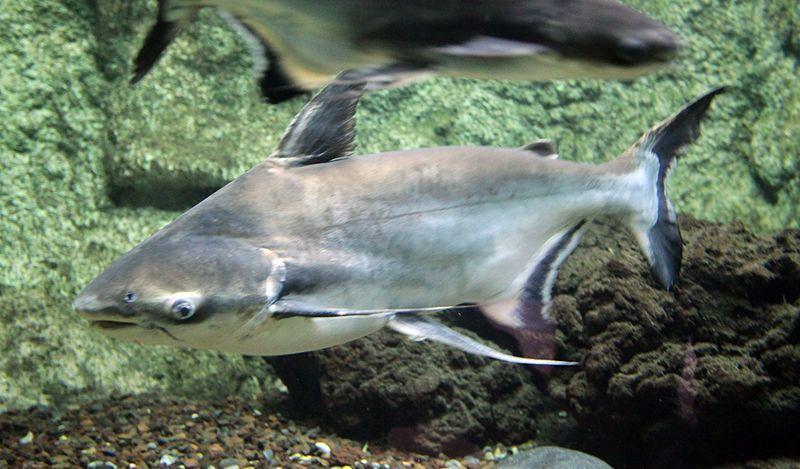Pangasius: (75, 65, 734, 371)
